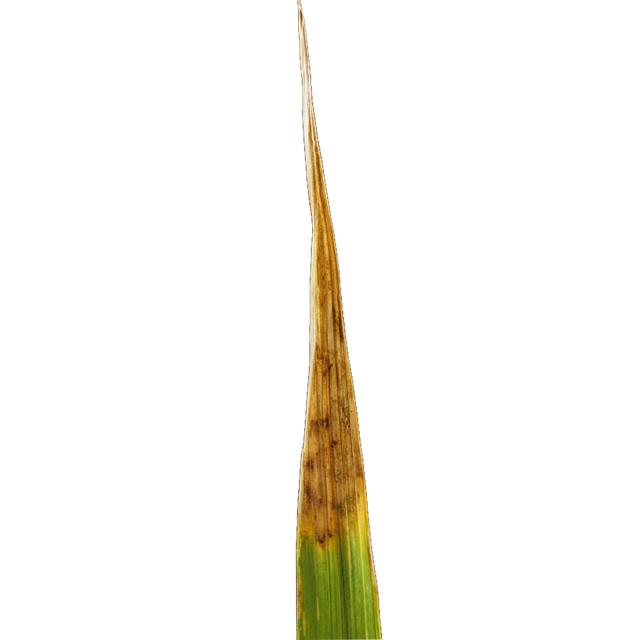Leaf scald: (214, 0, 512, 639)
